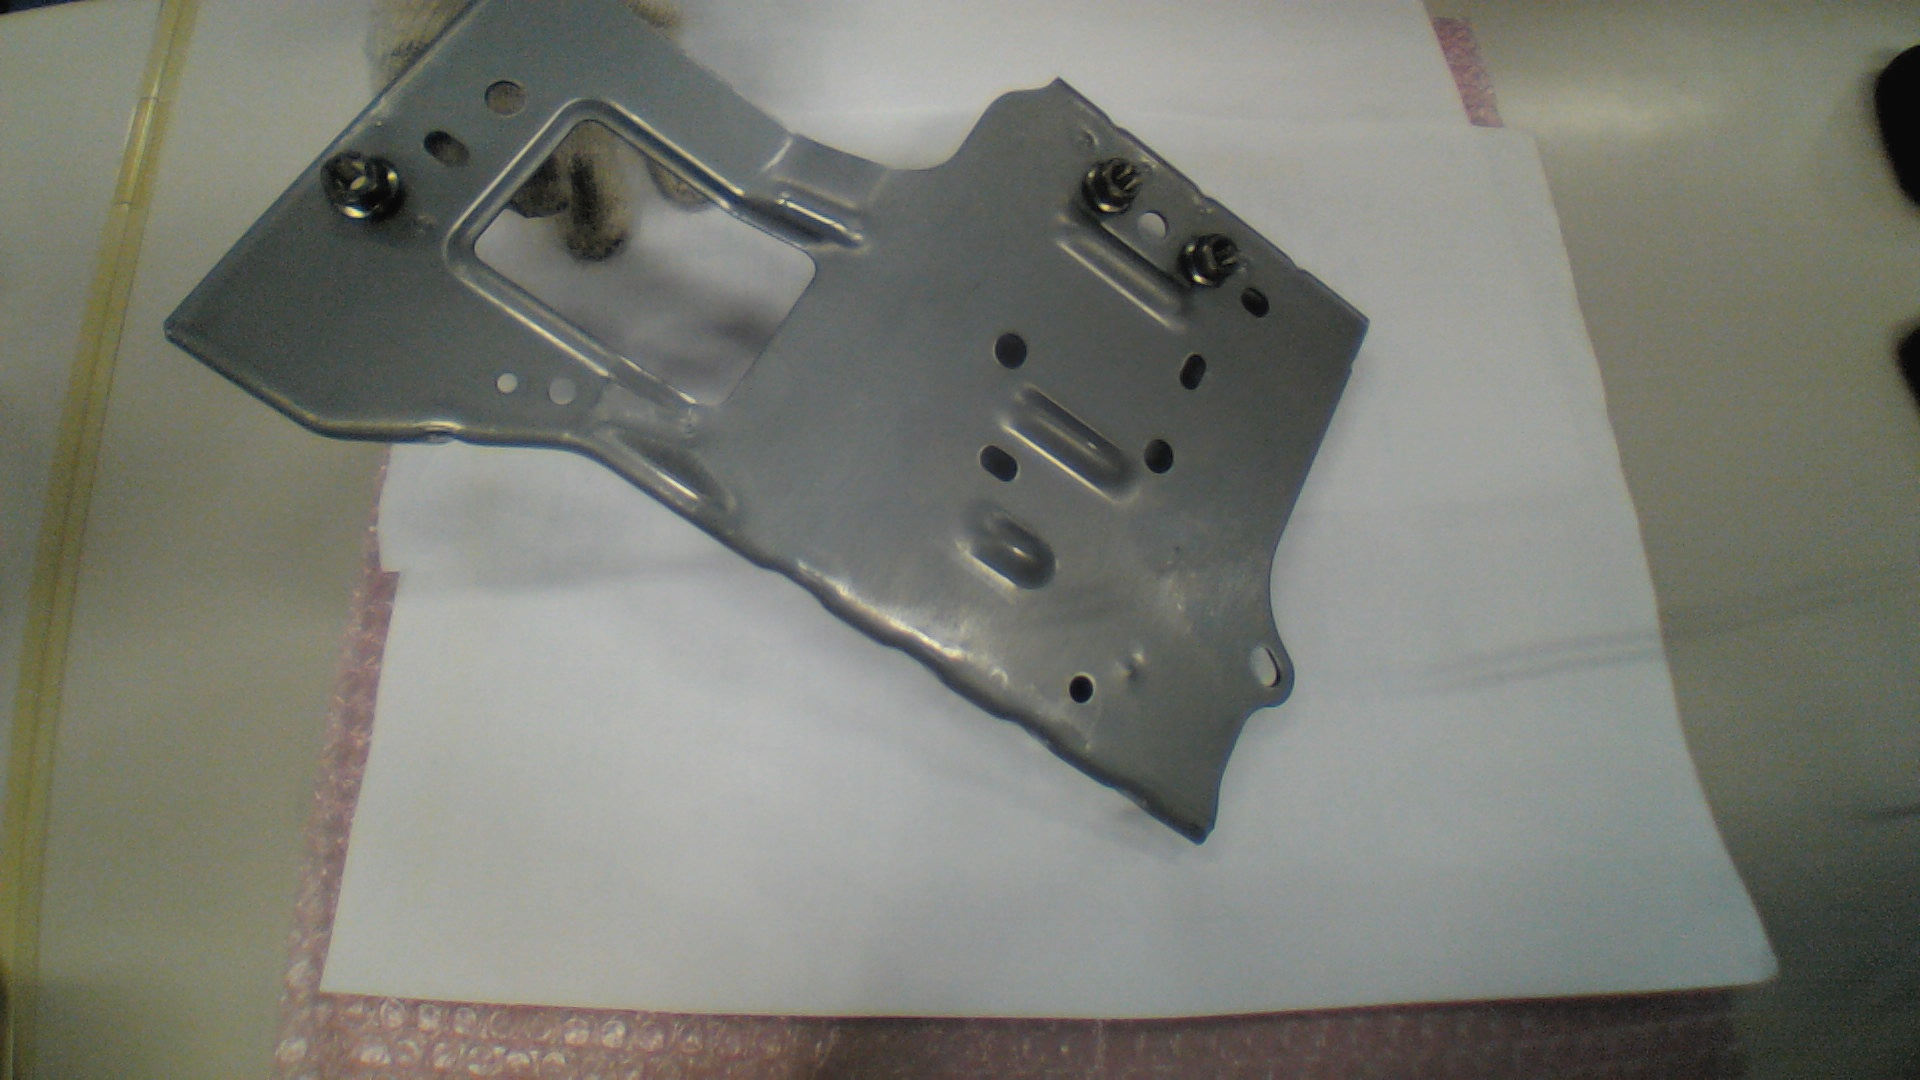dog: (319, 149, 404, 225), (1081, 156, 1145, 216), (1180, 235, 1241, 286)
